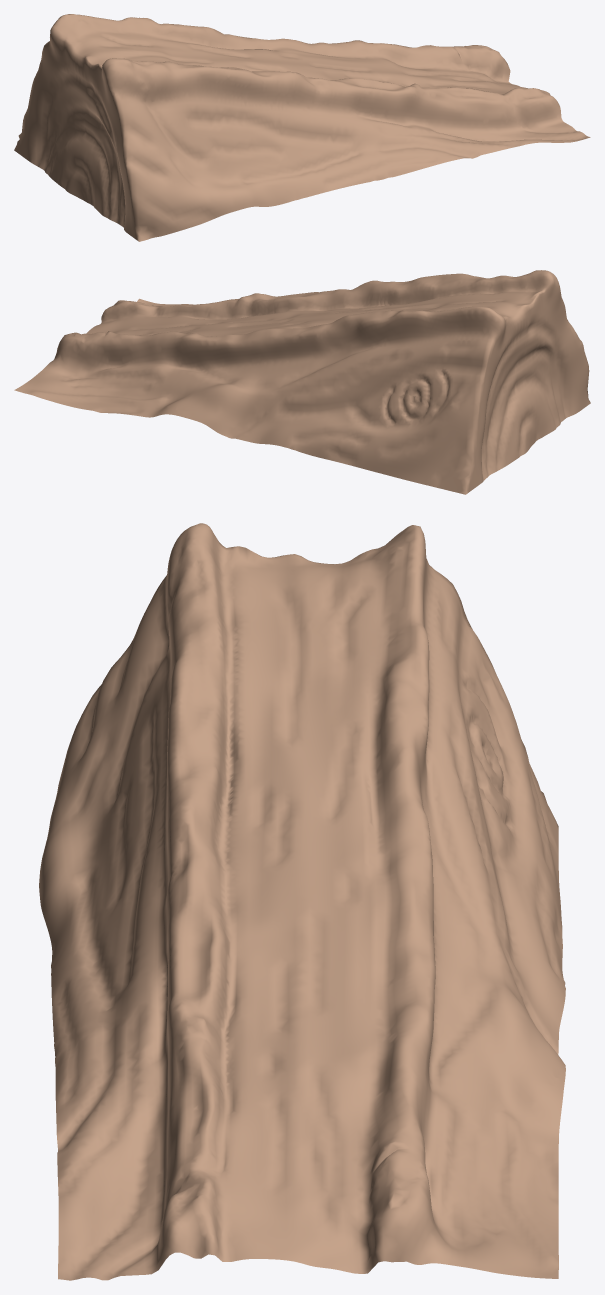
Rendered from High_Poly_Tile_3.fbx.
The picture shows the model from 3 angles, top to bottom: view 1: azimuth 30°, elevation 25°; view 2: azimuth 150°, elevation 25°; view 3: azimuth 270°, elevation 25°; orthographic projection. The views are drawn at different scales.
Parts seen in each view (by area): view 1: HighPoly; view 2: HighPoly; view 3: HighPoly.
Boxes of the visible parts, left/top/right/bottom form: HighPoly: left=14, top=14, right=590, bottom=241; HighPoly: left=14, top=270, right=590, bottom=494; HighPoly: left=39, top=523, right=565, bottom=1280.
Size of the model in its own units: 18.69 by 6.54 by 9.37.
